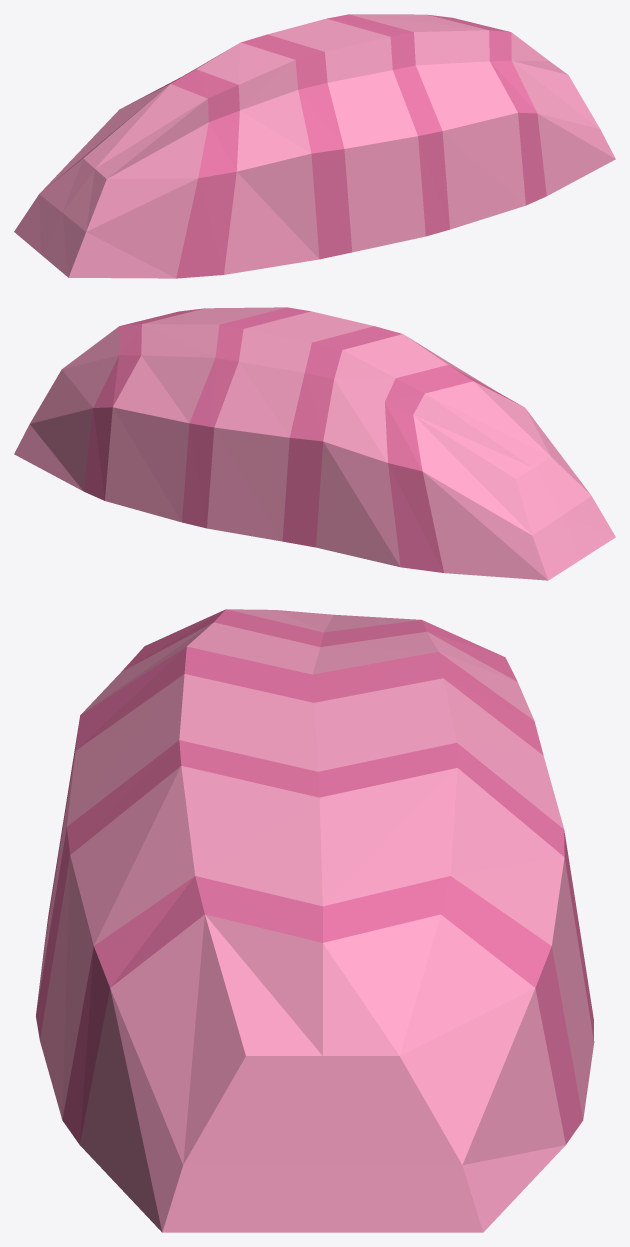
The model's file is Sashimi_Salmon2.obj.
3 views of the same model, one above another, from view 1: azimuth 30°, elevation 25°; view 2: azimuth 150°, elevation 25°; view 3: azimuth 270°, elevation 25° (orthographic). The views are drawn at different scales.
Visible parts, largest first — view 1: Sashimi_Salmon2_PalePink, Sashimi_Salmon2_PalePink2; view 2: Sashimi_Salmon2_PalePink, Sashimi_Salmon2_PalePink2; view 3: Sashimi_Salmon2_PalePink, Sashimi_Salmon2_PalePink2.
Boxes of the visible parts, bbox=[...] form: Sashimi_Salmon2_PalePink: bbox=[14, 14, 615, 278]; Sashimi_Salmon2_PalePink2: bbox=[125, 14, 546, 278]; Sashimi_Salmon2_PalePink: bbox=[14, 307, 615, 580]; Sashimi_Salmon2_PalePink2: bbox=[84, 307, 521, 572]; Sashimi_Salmon2_PalePink: bbox=[36, 609, 593, 1232]; Sashimi_Salmon2_PalePink2: bbox=[36, 609, 594, 1144].
Size of the model in its own units: 0.5976 by 0.1518 by 0.2716.
